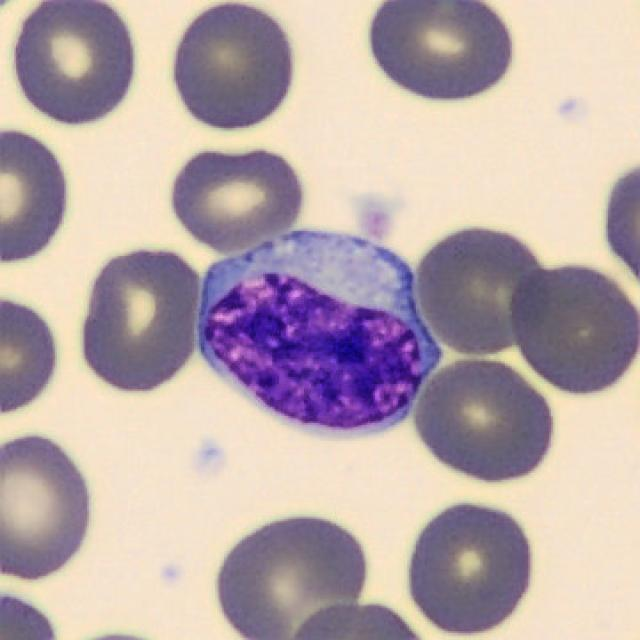Linfocito atipico: (197, 231, 443, 436)
